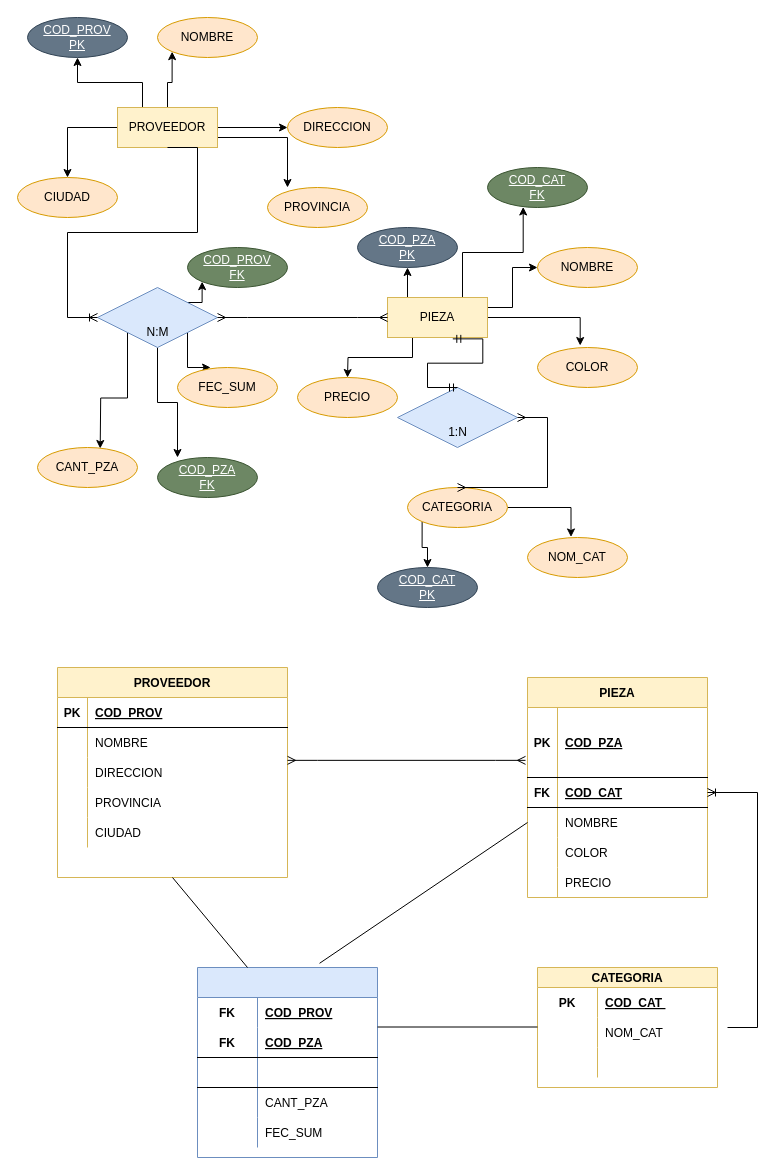
Image size: 783x1175. Some labels were removed from this diagram. Each missing label, with the box of its shape:
SUMINISTRA: (96, 286, 218, 348)
SUMINISTROS: (196, 966, 378, 1158)
TIENE: (396, 386, 518, 448)
